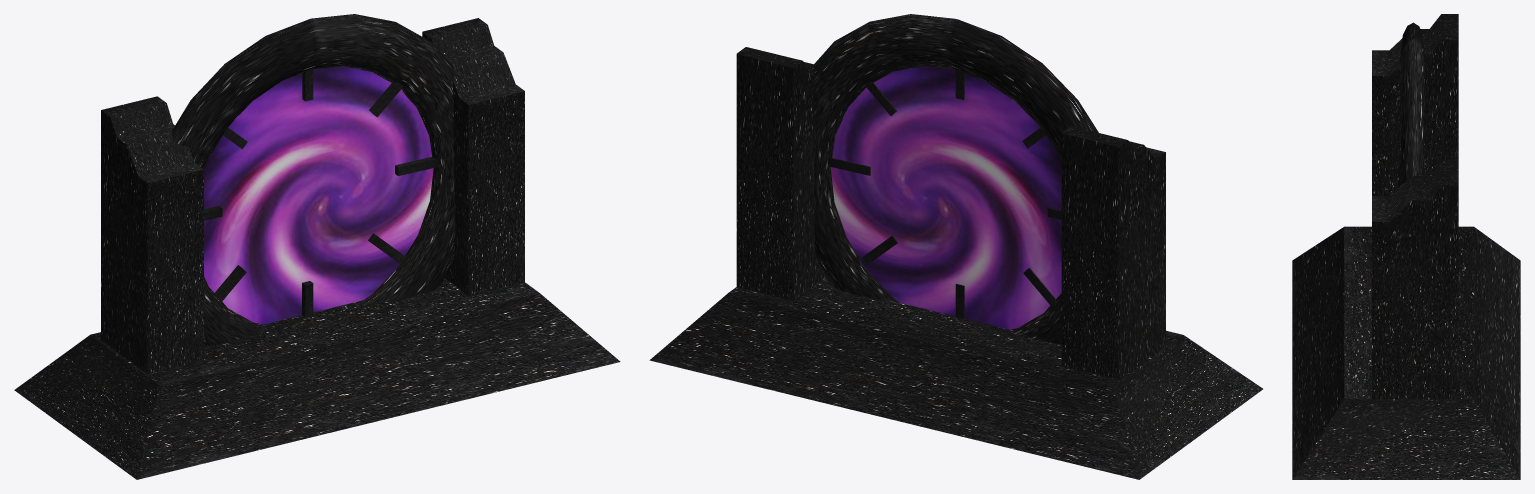
File: 傳送門.FBX
3 views of the same model, side by side, from view 1: azimuth 30°, elevation 25°; view 2: azimuth 150°, elevation 25°; view 3: azimuth 270°, elevation 25° (orthographic). The views are drawn at different scales.
Parts seen in each view (by area): view 1: Box003, Cylinder001; view 2: Box003, Cylinder001; view 3: Box003.
Boxes of the visible parts, left/top/right/bottom form: Box003: left=14, top=14, right=620, bottom=479; Cylinder001: left=204, top=66, right=433, bottom=324; Box003: left=649, top=14, right=1262, bottom=479; Cylinder001: left=830, top=66, right=1061, bottom=329; Box003: left=1292, top=14, right=1520, bottom=479.
Bounding box in the file's own units: 1.52 × 1.07 × 0.6694.
Materials: 2 (2 with a texture image).
